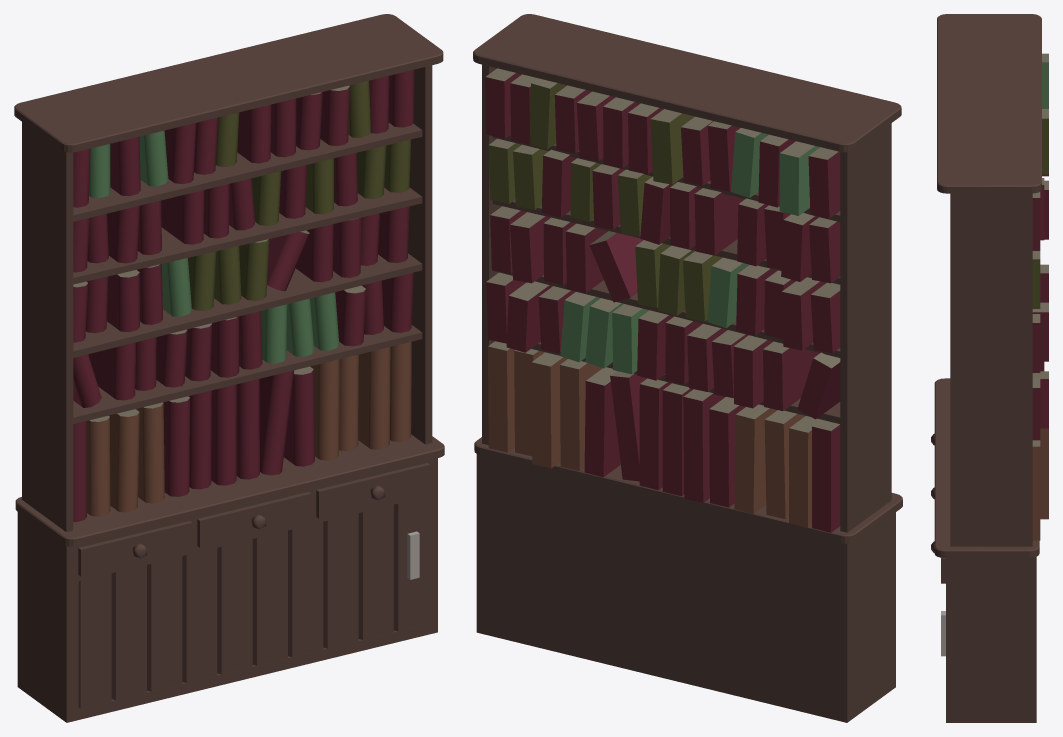
The model's file is shelf1.gltf.
The picture shows the model from 3 angles, left to right: view 1: azimuth 30°, elevation 25°; view 2: azimuth 150°, elevation 25°; view 3: azimuth 270°, elevation 25°; orthographic projection. The views are drawn at different scales.
Visible parts, largest first — view 1: Cube.005, Cube.008, Cube.013, Cube.003, Cube.007, Cube.004, Cube.001, Cube.010, Cube.011, Cube.012, Cube.009, Cube.030 (+66 smaller); view 2: Cube.003, Cube.008, Cube.013, Cube.007, Cube.021, Cube.029, Cube.027, Cube.014, Cube.023, Cube.028, Cube.031, Cube.022 (+64 smaller); view 3: Cube.001, Cube.008, Cube.003, Cube.007, Cube.031, Cube.029, Cube.045, Cube.043, Cube.044, Cube.046, Cube.067, Cube.072 (+7 smaller).
Part boxes in pixels (<box>): Cube.005: <box>78,496,427,708</box>; Cube.008: <box>14,14,443,152</box>; Cube.013: <box>22,122,73,531</box>; Cube.003: <box>17,458,437,722</box>; Cube.007: <box>15,434,444,546</box>; Cube.004: <box>78,463,430,576</box>; Cube.001: <box>408,65,432,444</box>; Cube.010: <box>73,253,422,357</box>; Cube.011: <box>73,188,422,284</box>; Cube.012: <box>73,123,422,221</box>; Cube.009: <box>73,325,422,423</box>; Cube.030: <box>358,347,390,449</box>; Cube.003: <box>476,454,895,722</box>; Cube.008: <box>473,14,901,152</box>; Cube.013: <box>840,123,891,532</box>; Cube.007: <box>474,437,902,543</box>; Cube.021: <box>734,404,777,514</box>; Cube.029: <box>531,352,567,468</box>; Cube.027: <box>584,367,620,477</box>; Cube.014: <box>812,419,840,532</box>; Cube.023: <box>683,389,725,502</box>; Cube.028: <box>560,359,602,470</box>; Cube.031: <box>488,341,514,452</box>; Cube.022: <box>709,397,745,507</box>; Cube.001: <box>950,193,1032,546</box>; Cube.008: <box>937,14,1041,193</box>; Cube.003: <box>946,557,1036,722</box>; Cube.007: <box>934,378,1039,557</box>; Cube.031: <box>1032,440,1040,540</box>; Cube.029: <box>1040,428,1048,519</box>; Cube.045: <box>1032,302,1048,361</box>; Cube.043: <box>1032,371,1048,428</box>; Cube.044: <box>1032,378,1040,440</box>; Cube.046: <box>1032,314,1040,372</box>; Cube.067: <box>1032,192,1040,250</box>; Cube.072: <box>1032,251,1040,308</box>.
Size of the model in its own units: 2.05 by 2.99 by 0.5935.
